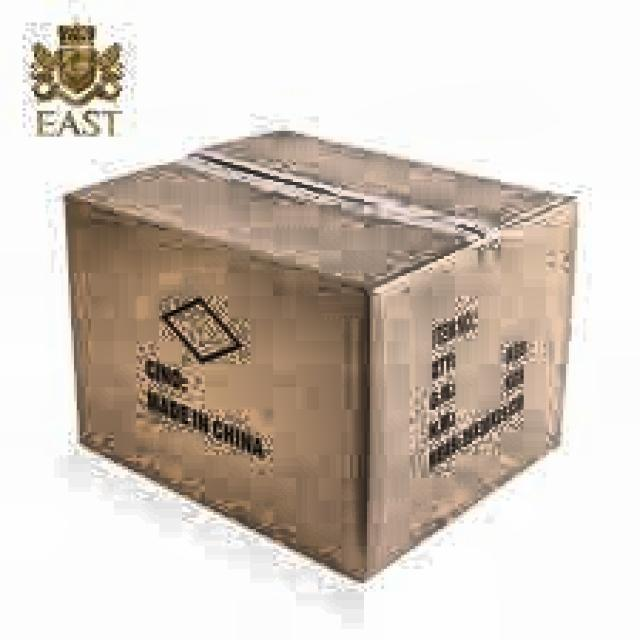Cardbox: (54, 120, 613, 598)
